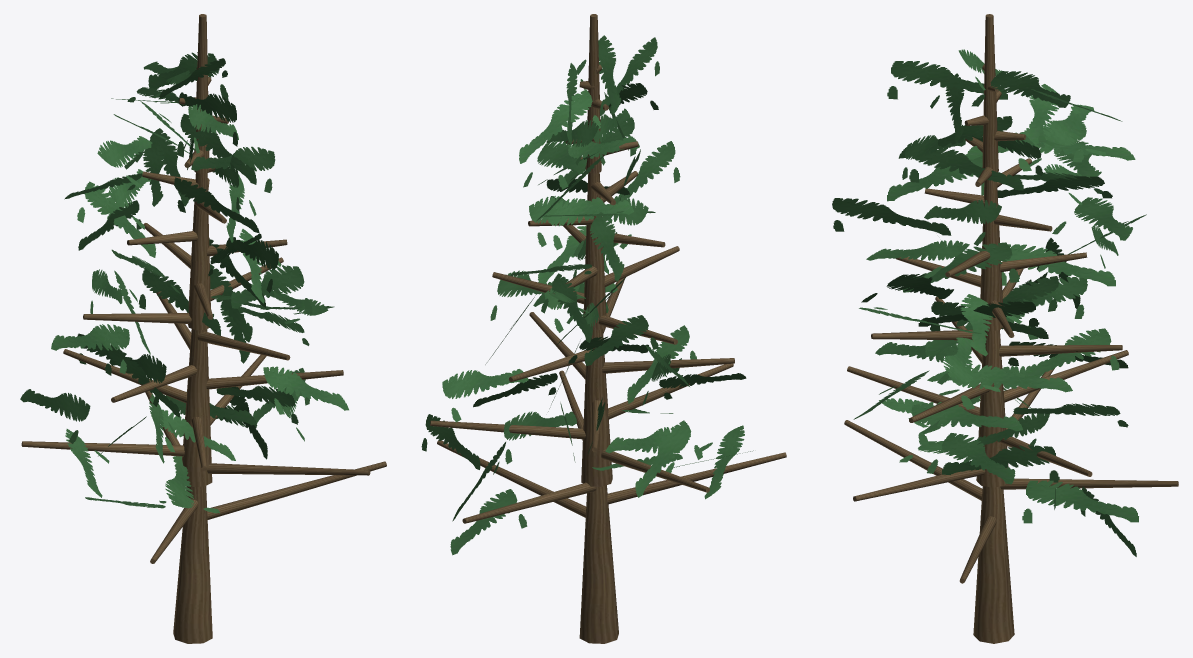
The picture shows the model from 3 angles, left to right: view 1: azimuth 30°, elevation 25°; view 2: azimuth 150°, elevation 25°; view 3: azimuth 270°, elevation 25°; orthographic projection.
Visible parts, largest first — view 1: pine-needle, pine-bark; view 2: pine-needle, pine-bark; view 3: pine-needle, pine-bark.
Boxes of the visible parts, left/top/right/bottom form: pine-needle: left=20, top=52, right=348, bottom=513; pine-bark: left=21, top=14, right=386, bottom=643; pine-needle: left=421, top=35, right=753, bottom=555; pine-bark: left=430, top=14, right=786, bottom=643; pine-needle: left=832, top=49, right=1146, bottom=556; pine-bark: left=844, top=14, right=1178, bottom=643.
Bounding box in the file's own units: 5.5 × 10.01 × 5.29.
Materials: 2 (2 with a texture image).
